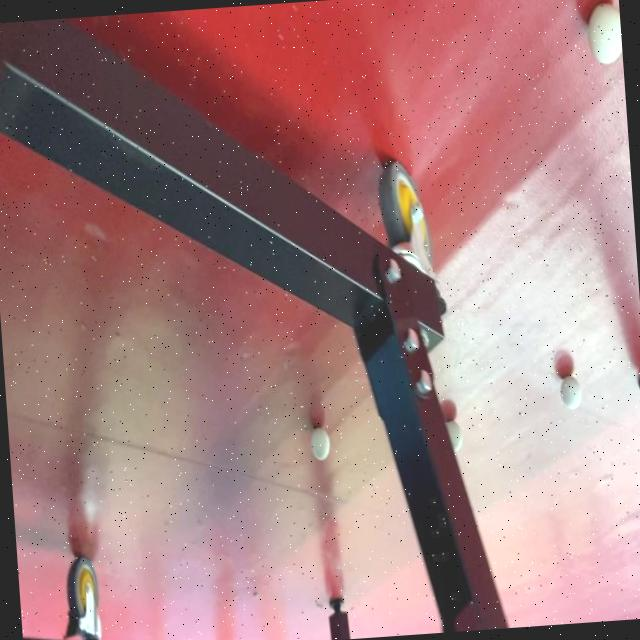ping-pong-ball: (582, 0, 623, 67), (556, 372, 582, 411), (308, 424, 330, 461), (442, 416, 462, 454)
